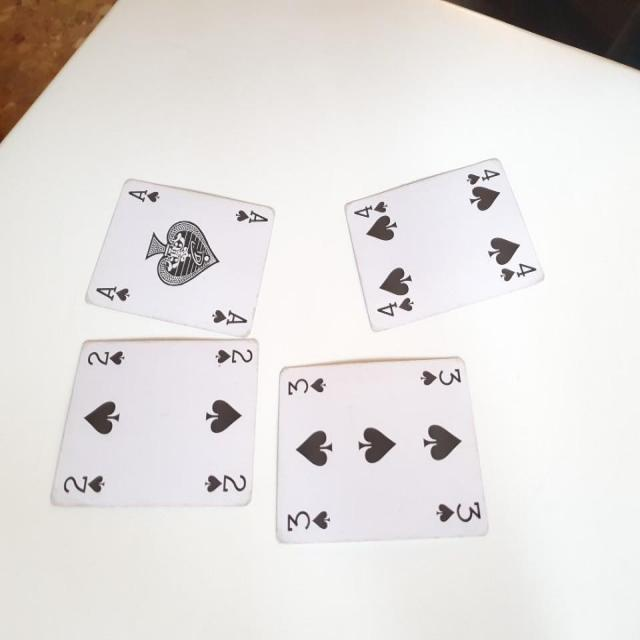2 Spades: (47, 334, 261, 512)
3 Spades: (275, 356, 487, 540)
4 Spades: (344, 158, 547, 330)
A Spades: (83, 176, 271, 340)
